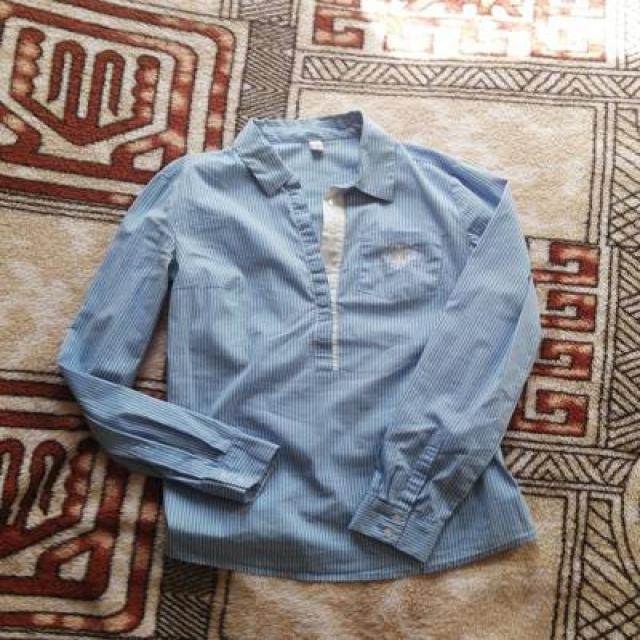Clothes -Biodegradable-: (60, 113, 540, 581)
